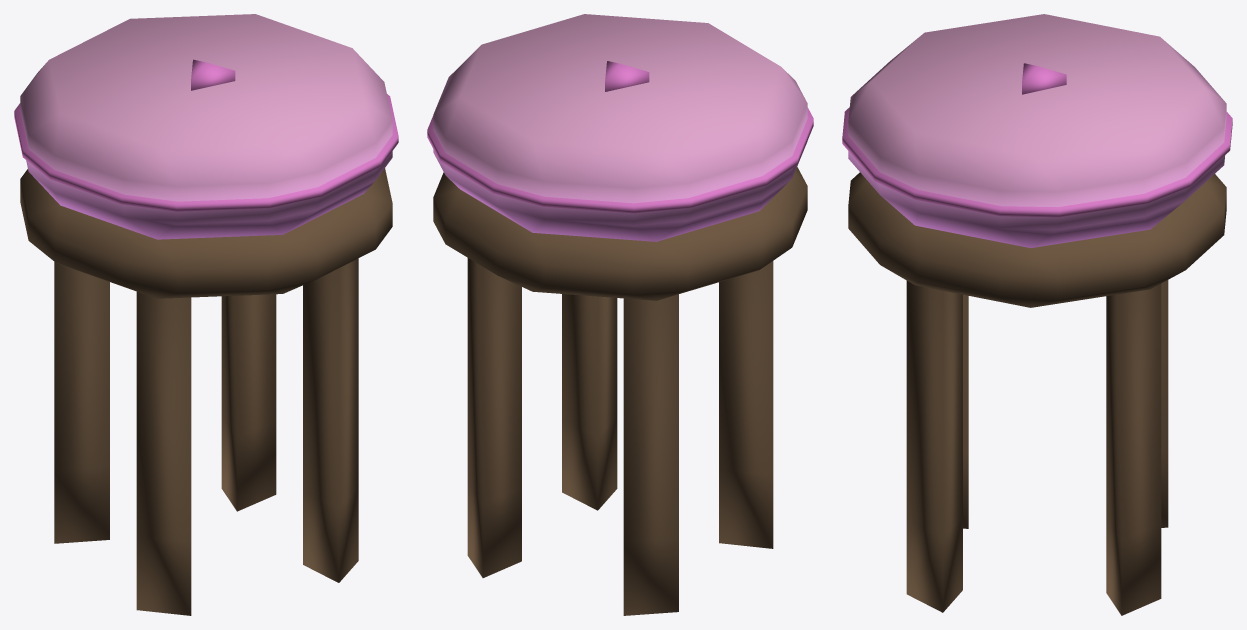
The model's file is cutepack2023pinkstool 1.fbx.
3 views of the same model, side by side, from view 1: azimuth 30°, elevation 25°; view 2: azimuth 150°, elevation 25°; view 3: azimuth 270°, elevation 25° (orthographic).
Parts seen in each view (by area): view 1: Sphere.001; view 2: Sphere.001; view 3: Sphere.001.
Part boxes in pixels (bbox=[...]): Sphere.001: bbox=[14, 14, 398, 615]; Sphere.001: bbox=[427, 14, 813, 615]; Sphere.001: bbox=[842, 14, 1232, 615].
Size of the model in its own units: 66.19 by 92.67 by 66.19.
